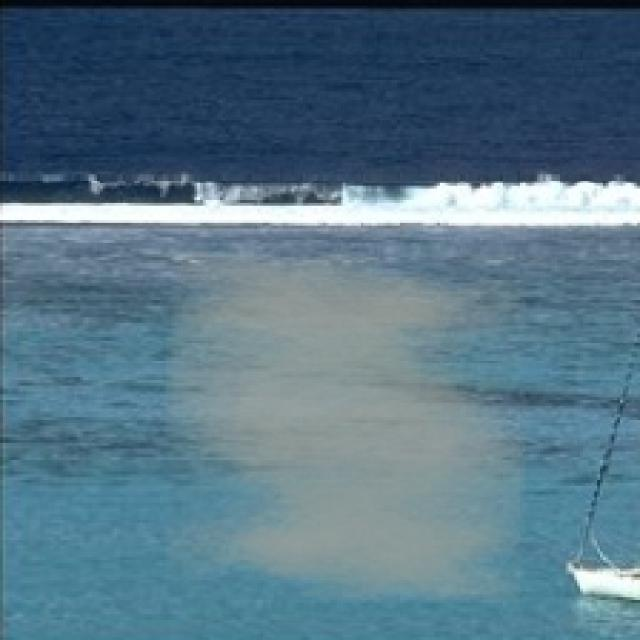smoke: (165, 251, 526, 603)
